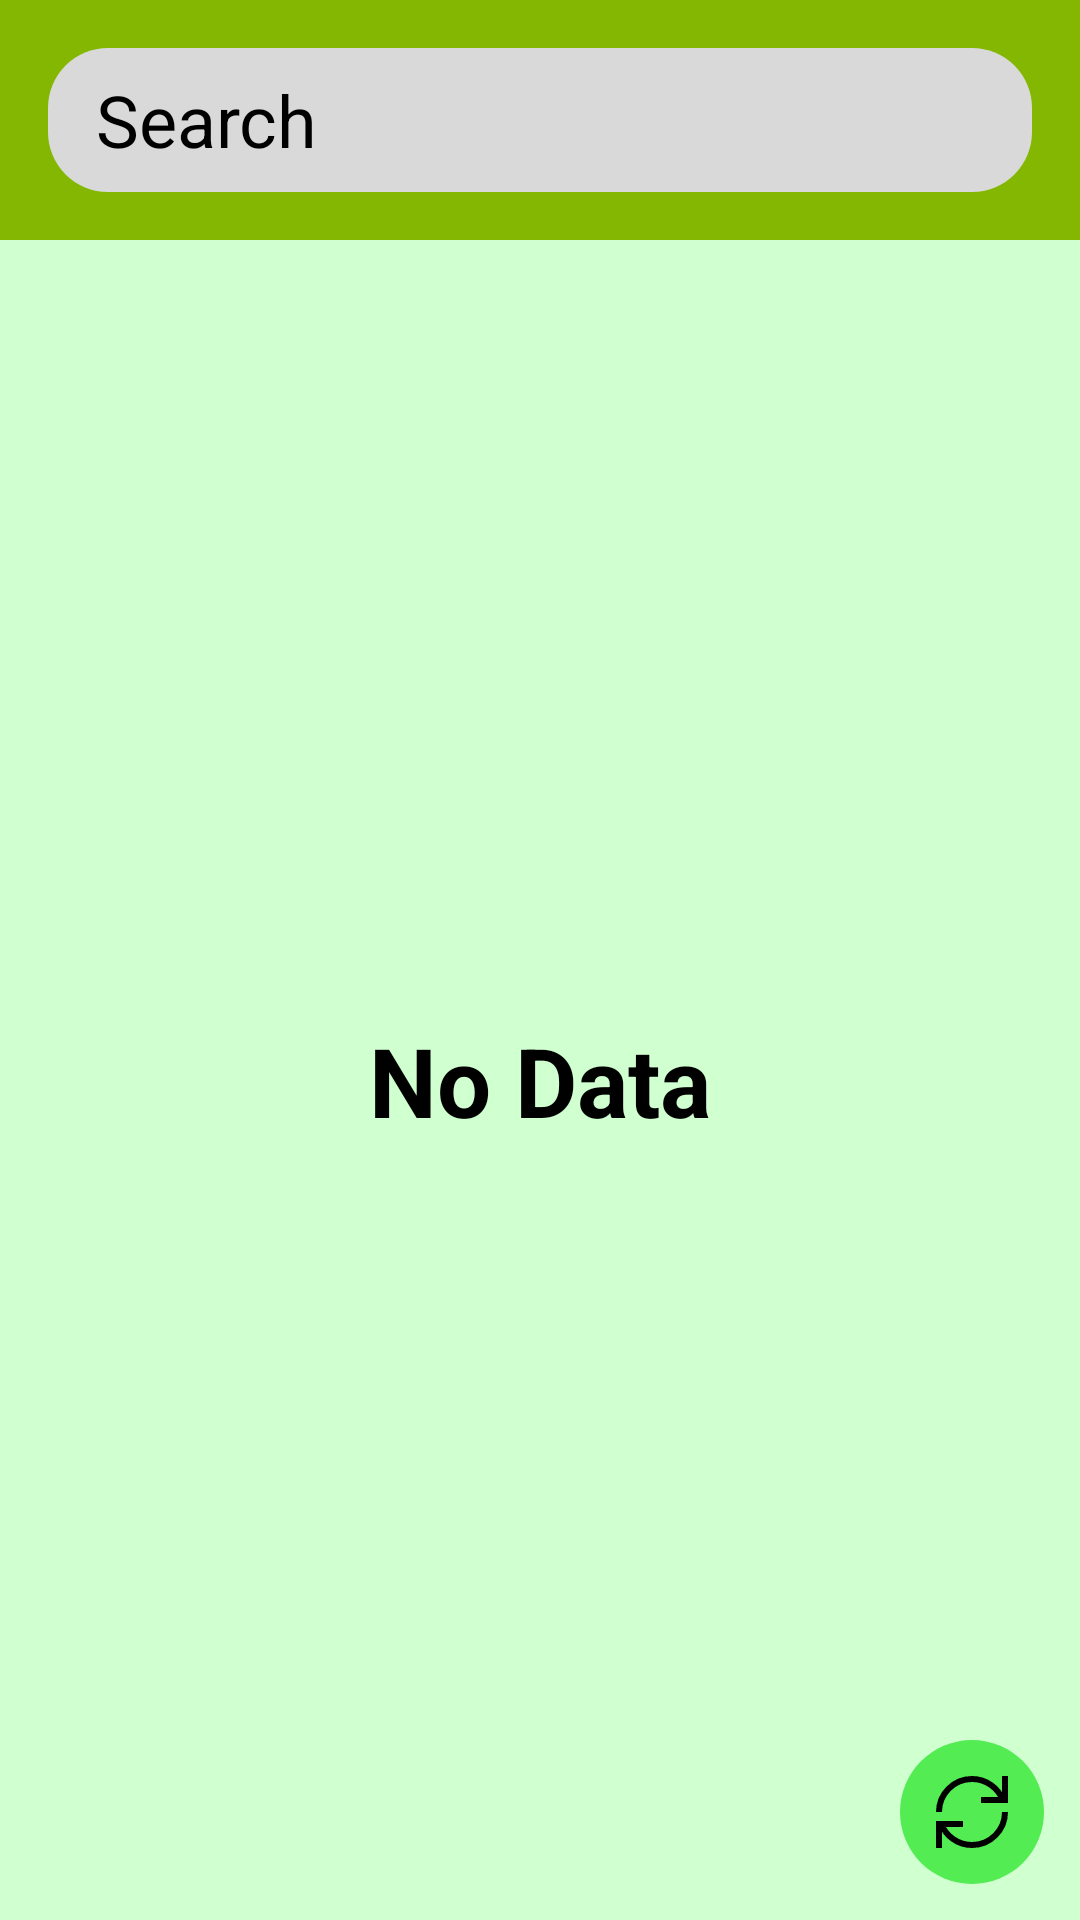

Where to tap for icons on this 1080px x 1920px app screen, as point (x, y):
update: point (972, 1812)
